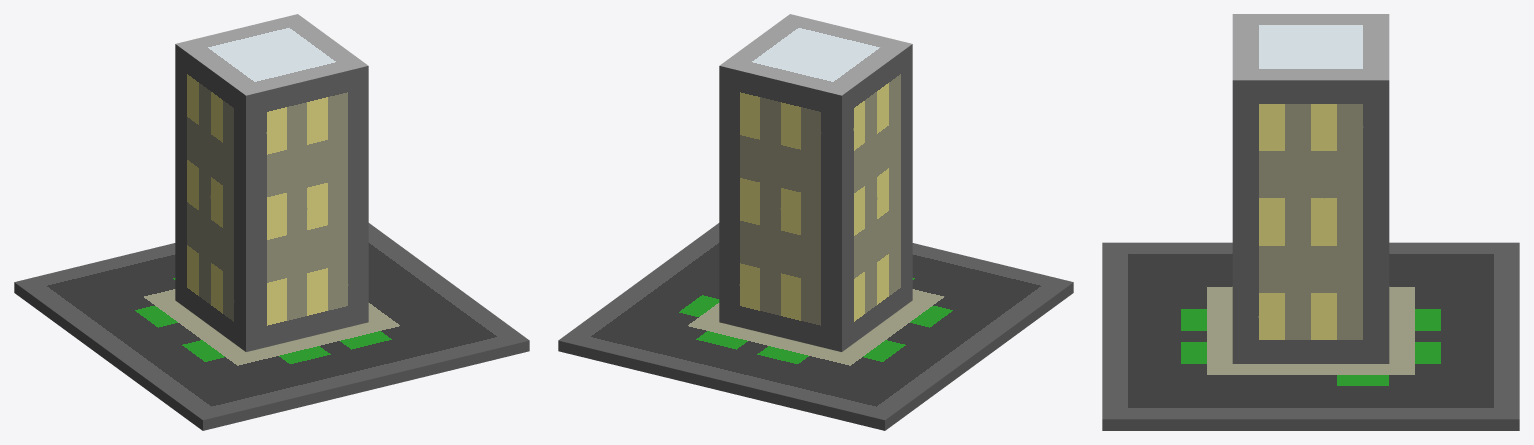
The model's file is skyscraper.glb.
3 renders of one model, left to right at view 1: azimuth 30°, elevation 25°; view 2: azimuth 150°, elevation 25°; view 3: azimuth 270°, elevation 25°, orthographic. The views are drawn at different scales.
Visible parts, largest first — view 1: cuboid (×2); view 2: cuboid (×2); view 3: cuboid (×2).
Boxes of the visible parts, <box> form: cuboid (×2): <box>14,14,529,430</box>; cuboid (×2): <box>558,14,1073,430</box>; cuboid (×2): <box>1102,14,1519,430</box>.
Size of the model in its own units: 1 by 0.7812 by 1.
Materials: 2 (2 with a texture image).
